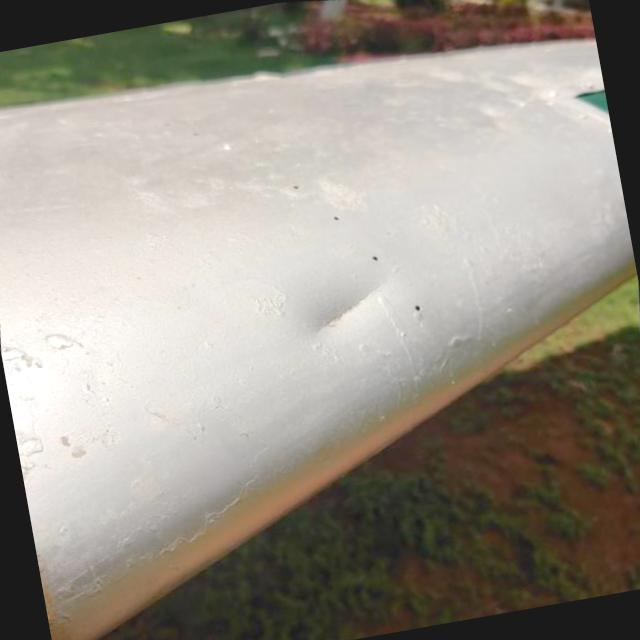dent: (278, 264, 420, 360)
